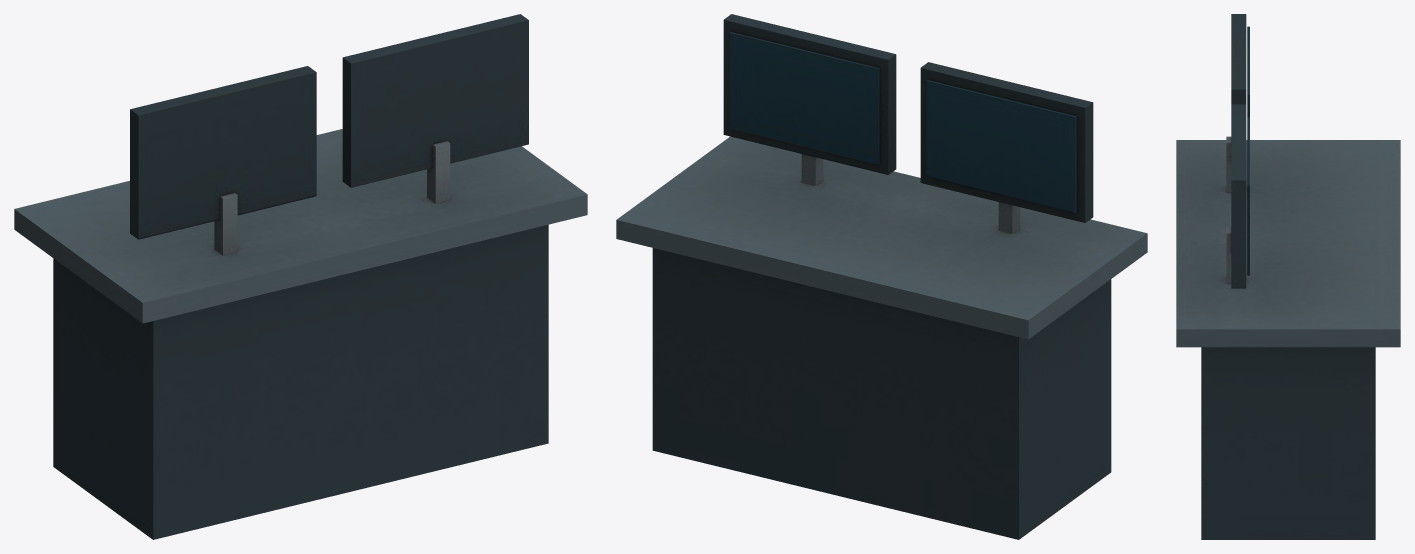
File: console_desk.glb
The picture shows the model from 3 angles, left to right: view 1: azimuth 30°, elevation 25°; view 2: azimuth 150°, elevation 25°; view 3: azimuth 270°, elevation 25°; orthographic projection. The views are drawn at different scales.
Visible parts, largest first — view 1: body; view 2: body; view 3: body.
Boxes of the visible parts, x1,y1,x2,y2 form: body: (14, 14, 587, 539); body: (616, 14, 1147, 539); body: (1176, 14, 1400, 539).
Bounding box in the file's own units: 1.8 × 1.59 × 0.9001.
Materials: 1 (1 with a texture image).
